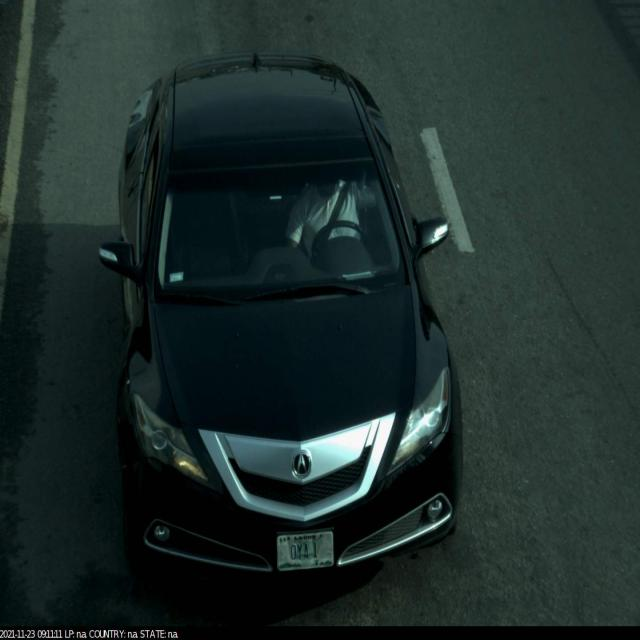windshield: (136, 147, 408, 314)
